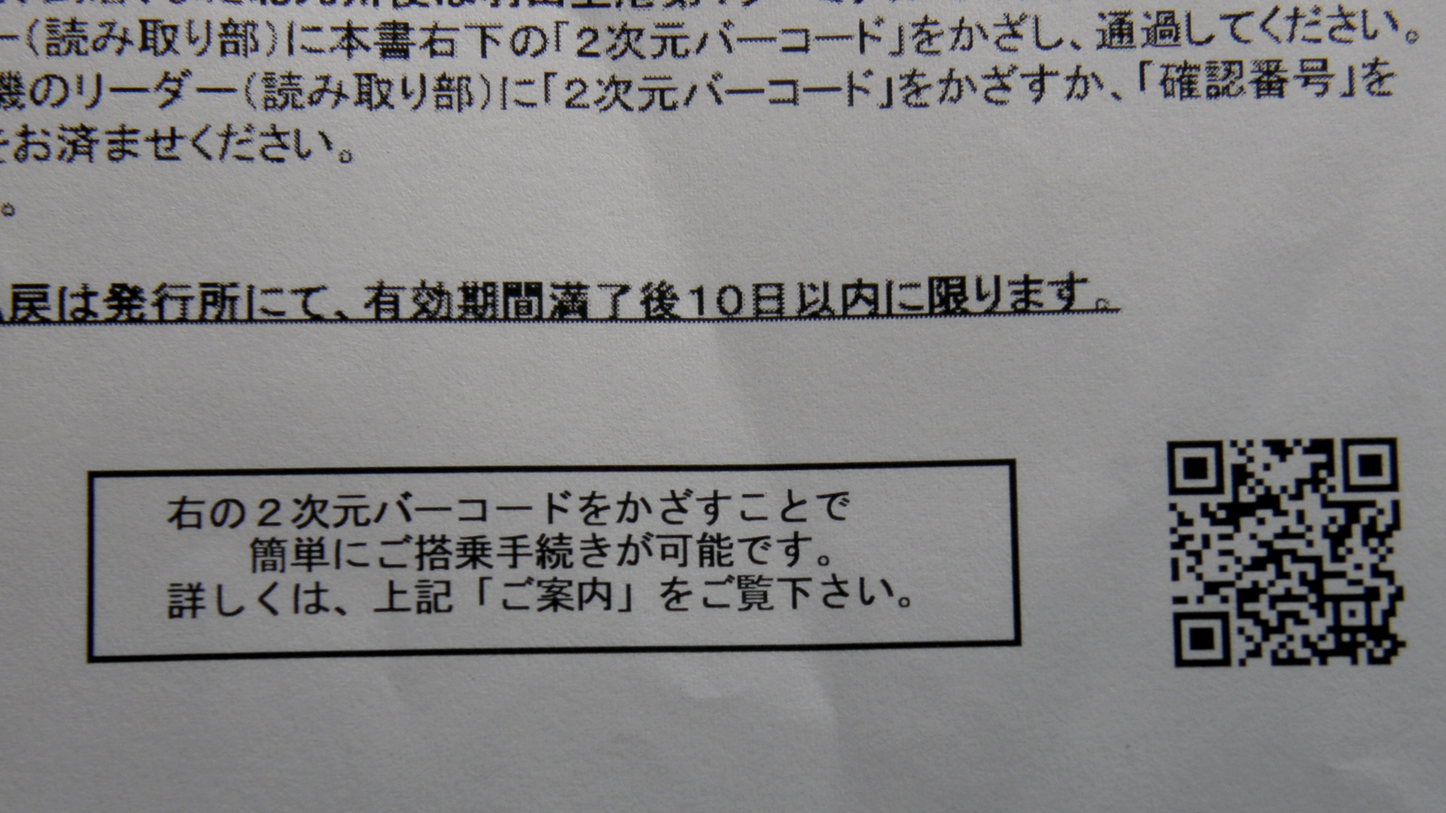QR-CODE: (1167, 437, 1408, 667)
